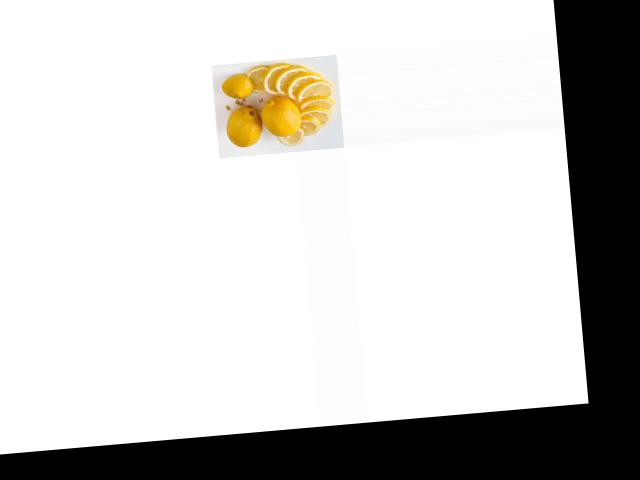lemon: (221, 73, 253, 103)
